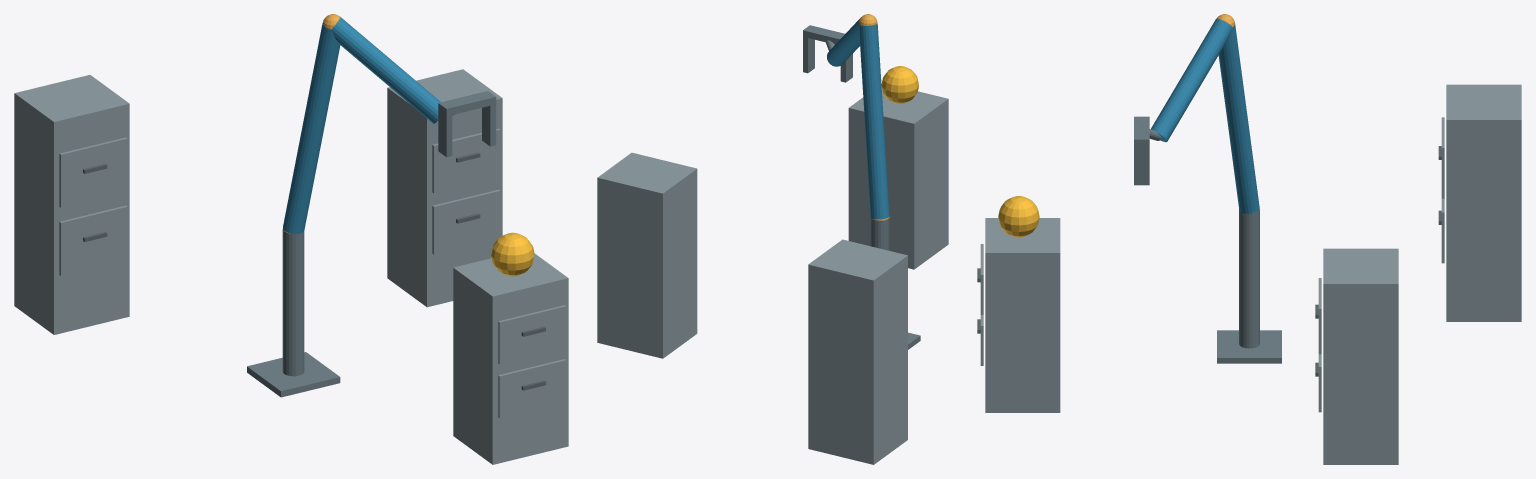
3 renders of one model, left to right at view 1: azimuth 30°, elevation 25°; view 2: azimuth 150°, elevation 25°; view 3: azimuth 270°, elevation 25°, orthographic. The views are drawn at different scales.
Parts seen in each view (by area): view 1: cabinet_3 body, cabinet_1 body, cabinet_2 body, moving link 1, cabinet_3 drawer front, cabinet_3 drawer front.001, cabinet_2 drawer front, fixed post, moving link 2, cabinet_2 drawer front.001, cabinet_1 drawer front, cabinet_1 drawer front.001 (+5 smaller); view 2: cabinet_3 body, cabinet_2 body, cabinet_1 body, moving link 1, ball ball_1, moving link 2, fixed post, gripper bridge, gripper finger 1; view 3: cabinet_3 body, cabinet_2 body, cabinet_1 body, moving link 1, fixed post, moving link 2, pedestal, ball ball_1, gripper finger 1.
Boxes of the visible parts, x1=… form: cabinet_3 body: x1=14, y1=75, x2=129, y2=334; cabinet_1 body: x1=453, y1=253, x2=568, y2=464; cabinet_2 body: x1=387, y1=69, x2=502, y2=307; moving link 1: x1=283, y1=22, x2=340, y2=234; cabinet_3 drawer front: x1=59, y1=205, x2=127, y2=275; cabinet_3 drawer front.001: x1=59, y1=137, x2=127, y2=207; cabinet_2 drawer front: x1=432, y1=189, x2=500, y2=254; fixed post: x1=282, y1=230, x2=304, y2=376; moving link 2: x1=331, y1=17, x2=440, y2=123; cabinet_2 drawer front.001: x1=432, y1=128, x2=500, y2=193; cabinet_1 drawer front: x1=498, y1=359, x2=566, y2=418; cabinet_1 drawer front.001: x1=498, y1=305, x2=566, y2=364; cabinet_3 body: x1=808, y1=239, x2=907, y2=464; cabinet_2 body: x1=597, y1=152, x2=697, y2=358; cabinet_1 body: x1=848, y1=84, x2=948, y2=269; moving link 1: x1=859, y1=23, x2=889, y2=219; ball ball_1: x1=881, y1=66, x2=918, y2=103; moving link 2: x1=827, y1=17, x2=861, y2=66; fixed post: x1=870, y1=216, x2=889, y2=250; gripper bridge: x1=803, y1=25, x2=844, y2=44; gripper finger 1: x1=803, y1=37, x2=814, y2=73; cabinet_3 body: x1=1446, y1=84, x2=1521, y2=321; cabinet_2 body: x1=1323, y1=248, x2=1398, y2=464; cabinet_1 body: x1=985, y1=218, x2=1060, y2=412; moving link 1: x1=1218, y1=24, x2=1259, y2=214; fixed post: x1=1239, y1=209, x2=1259, y2=348; moving link 2: x1=1151, y1=18, x2=1232, y2=142; pedestal: x1=1217, y1=330, x2=1281, y2=363; ball ball_1: x1=998, y1=196, x2=1039, y2=237; gripper finger 1: x1=1134, y1=146, x2=1149, y2=185.
Size of the model in its own units: 1.62 by 1.48 by 2.1.
